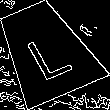L_NW: (17, 22, 74, 80)
